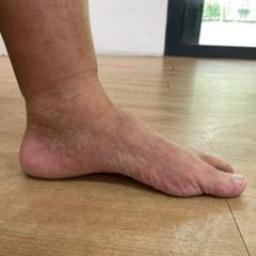Medial View -Left Foot-: (6, 72, 254, 218)
